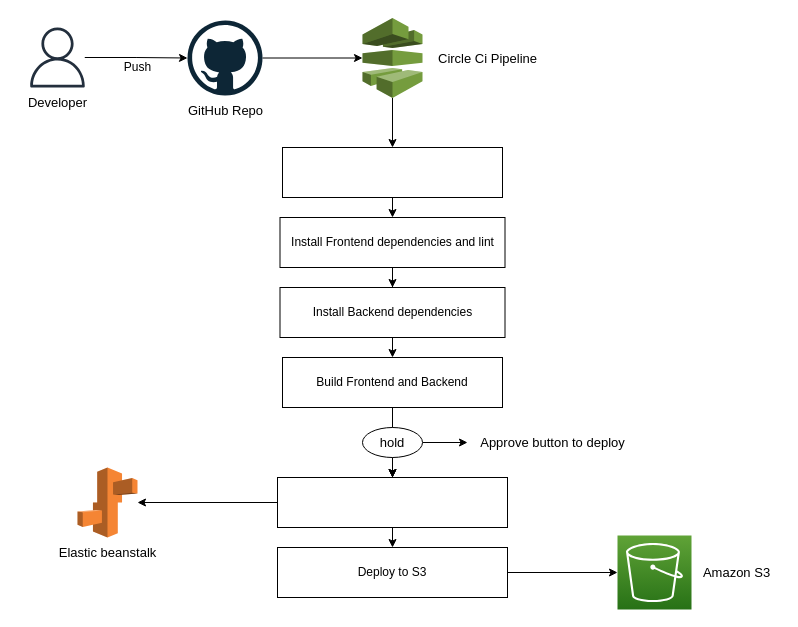
This 798x627 diagram has some shape labels left out. The centre of each missing label's shape, as x and y in pixels:
"Deploy to Elastic beanstalk" belongs at pixel 392 502.
"set Env, install node, AWS CLI , EB CLI" belongs at pixel 392 172.
